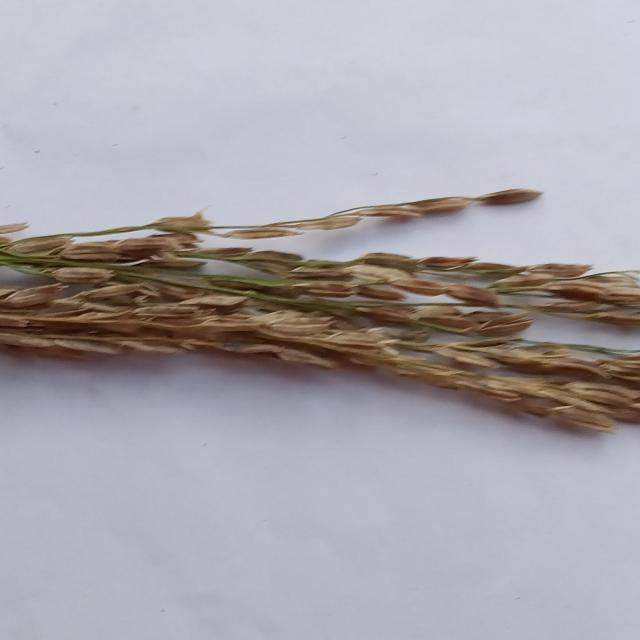Neck_Blast: (0, 283, 639, 437), (25, 248, 640, 338), (0, 194, 550, 248)
